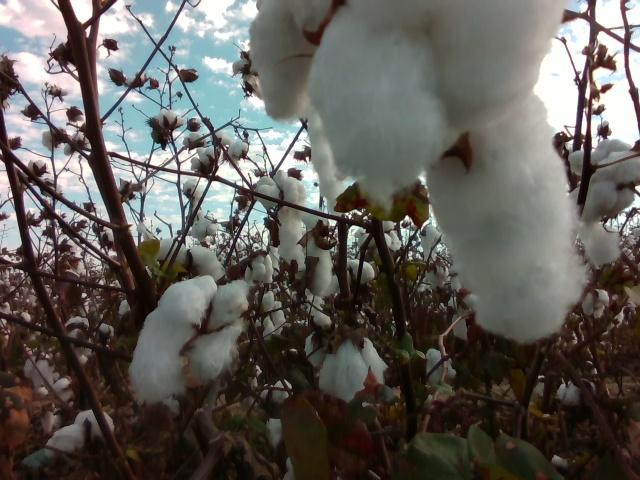cotton_ready: (248, 0, 570, 207), (423, 89, 586, 345), (128, 275, 251, 406), (305, 329, 392, 406), (570, 139, 630, 236), (254, 169, 308, 272), (578, 154, 640, 224), (43, 408, 115, 464), (531, 361, 599, 410), (154, 239, 226, 280), (303, 211, 334, 297), (267, 418, 304, 480), (321, 259, 377, 299), (578, 220, 622, 269), (356, 222, 403, 251), (425, 347, 457, 389), (260, 291, 287, 340), (65, 318, 94, 358), (243, 254, 274, 284), (49, 377, 78, 406), (24, 357, 50, 389), (191, 147, 220, 172), (152, 110, 187, 129), (190, 219, 218, 240)
